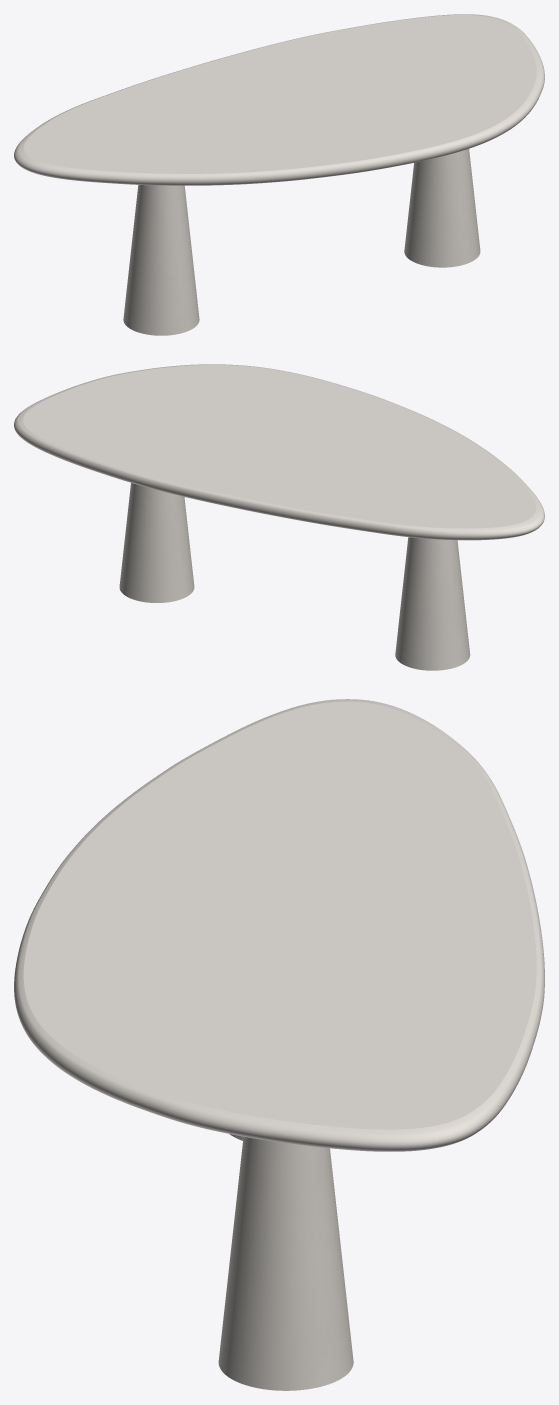
Rendered from pearlwhite_pebbletop_round_pebble.glb.
3 views of the same model, one above another, from view 1: azimuth 30°, elevation 25°; view 2: azimuth 150°, elevation 25°; view 3: azimuth 270°, elevation 25° (orthographic). The views are drawn at different scales.
Parts seen in each view (by area): view 1: round_pebbletop, pebble; view 2: round_pebbletop, pebble; view 3: round_pebbletop, pebble.
Boxes of the visible parts, left/top/right/bottom form: round_pebbletop: left=14, top=14, right=544, bottom=185; pebble: left=123, top=149, right=480, bottom=335; round_pebbletop: left=14, top=364, right=544, bottom=540; pebble: left=119, top=483, right=470, bottom=670; round_pebbletop: left=14, top=699, right=544, bottom=1151; pebble: left=218, top=1134, right=353, bottom=1390.
Size of the model in its own units: 7.5 by 2.51 by 3.8.
Materials: 1 (1 with a texture image).
